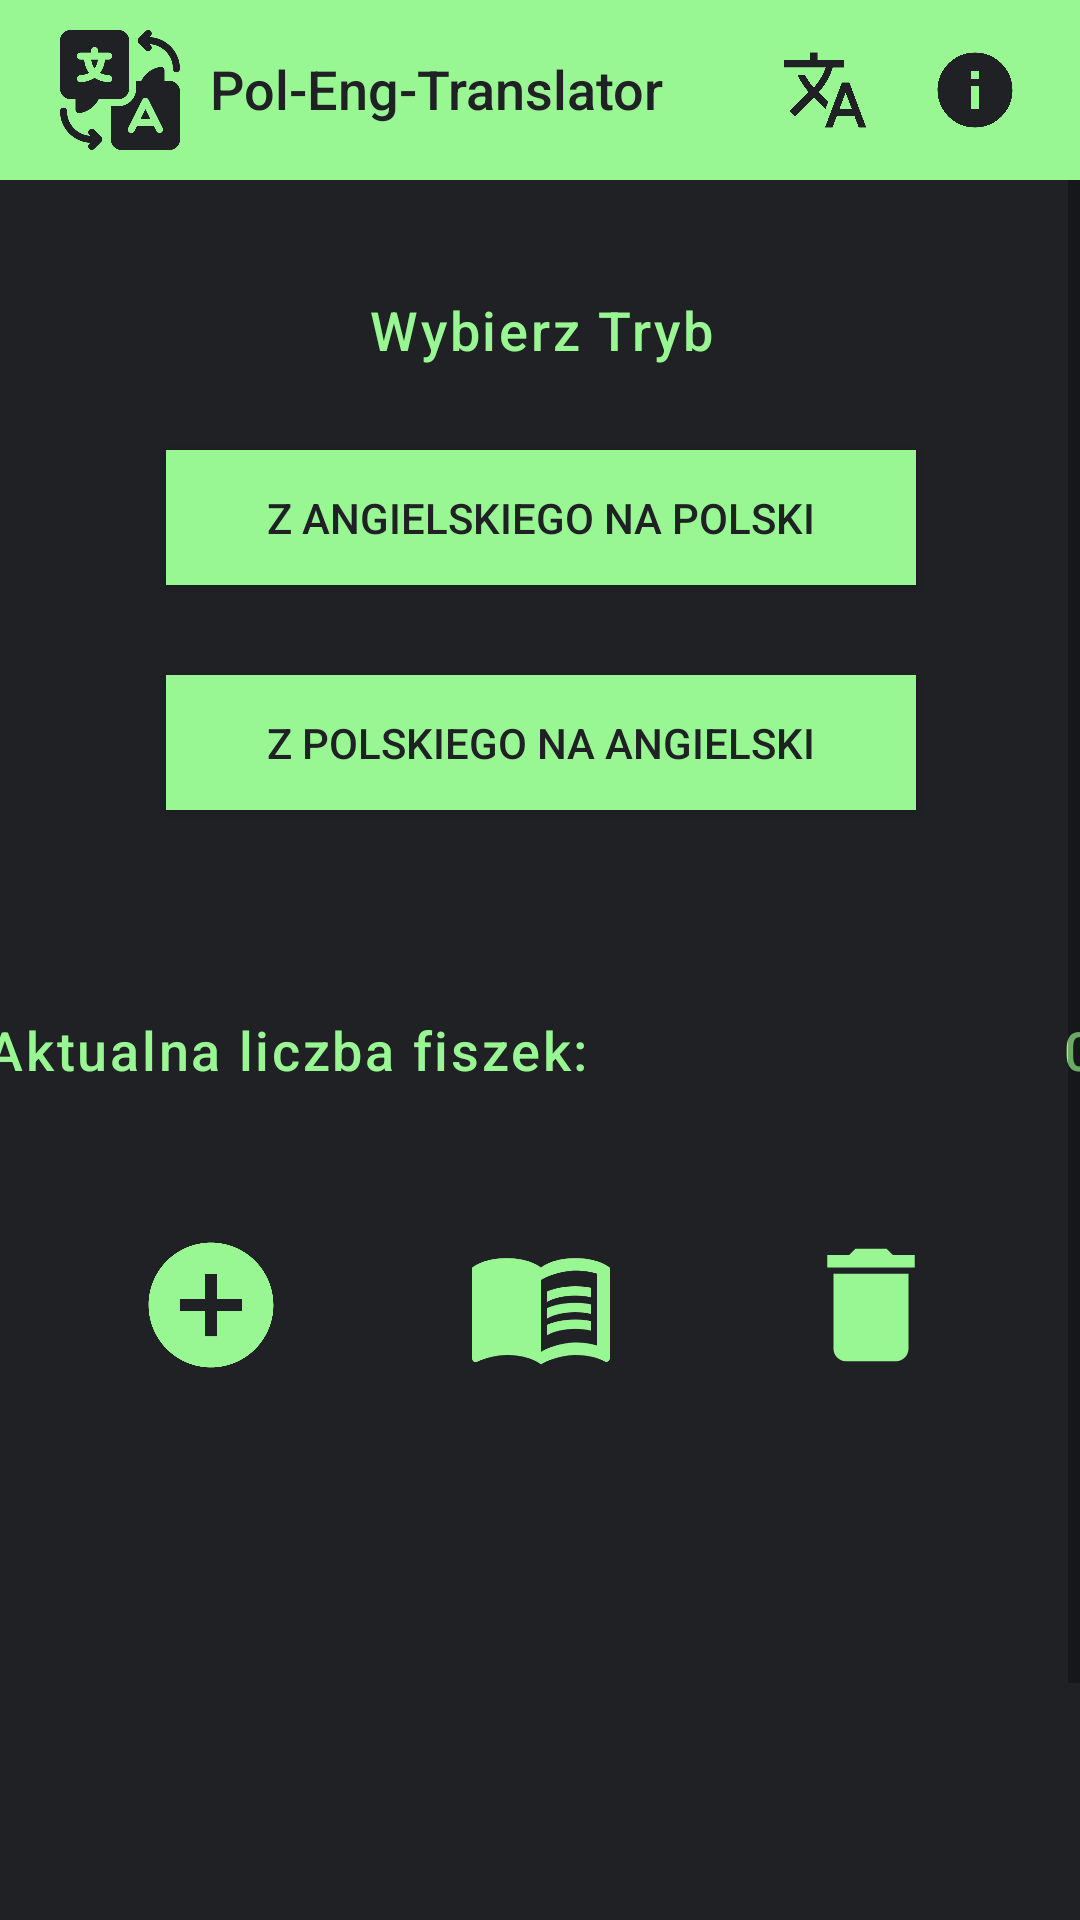

Locate icon controls on the screen. Image size 1080 x 1920, boxes as BBox(x1, y1, x2, y2).
add circle: BBox(148, 1242, 274, 1368)
book: BBox(472, 1258, 610, 1364)
delete: BBox(827, 1248, 915, 1362)
information: BBox(937, 52, 1013, 128)
translate: BBox(784, 52, 866, 128)
translation: BBox(60, 30, 180, 150)
